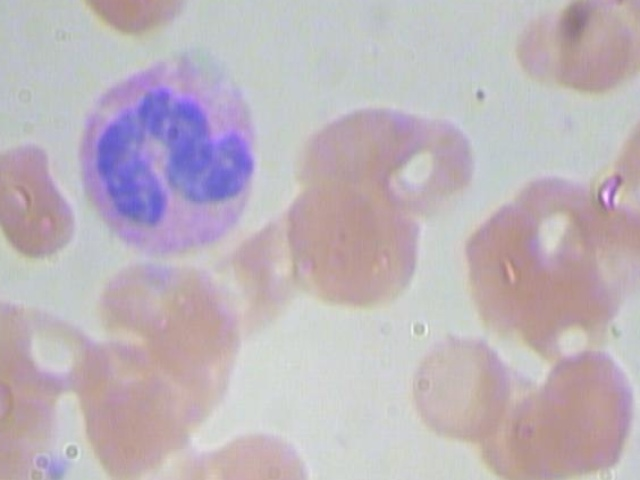RBC: (272, 171, 423, 314), (400, 312, 519, 457), (530, 333, 640, 478), (458, 353, 577, 480), (121, 274, 243, 390), (358, 108, 477, 225), (493, 165, 612, 282), (298, 87, 417, 204), (77, 376, 210, 479), (0, 118, 80, 271), (197, 233, 297, 340), (539, 0, 635, 100), (86, 415, 220, 480), (193, 415, 326, 480), (35, 0, 206, 39), (0, 73, 1, 240)
WBC: (56, 42, 272, 255)
